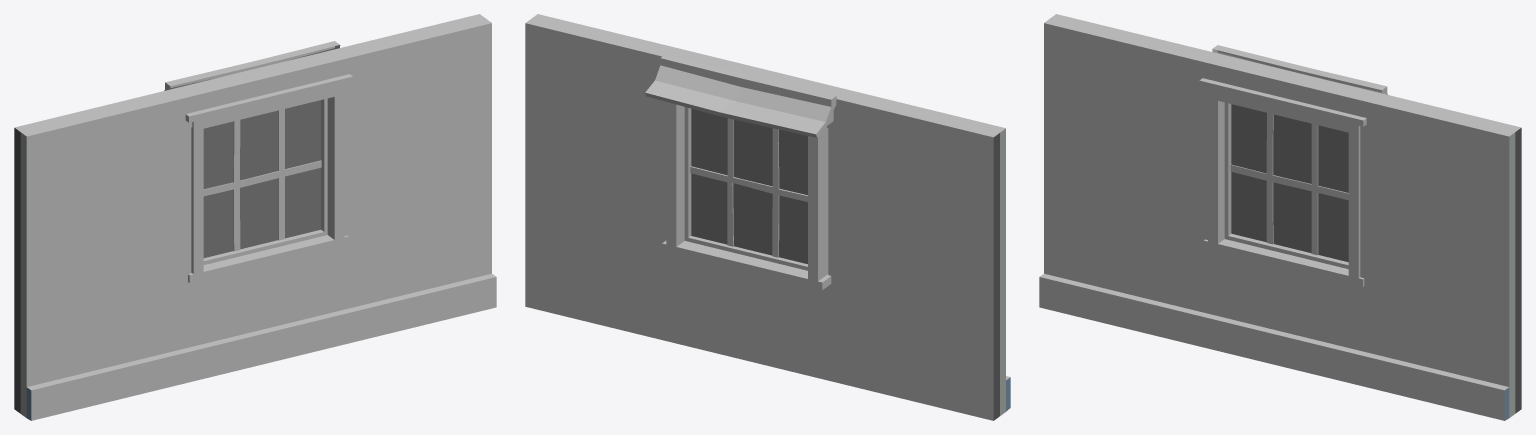
Rendered from Base_Wall_widow.fbx.
3 views of the same model, side by side, from view 1: azimuth 30°, elevation 25°; view 2: azimuth 150°, elevation 25°; view 3: azimuth 330°, elevation 25° (orthographic).
Visible parts, largest first — view 1: Base_Wall_widow; view 2: Base_Wall_widow; view 3: Base_Wall_widow.
Boxes of the visible parts, <box> form: Base_Wall_widow: <box>14,14,496,420</box>; Base_Wall_widow: <box>525,14,1010,420</box>; Base_Wall_widow: <box>1039,14,1521,420</box>.
Size of the model in its own units: 5.43 by 3.18 by 0.7546.
